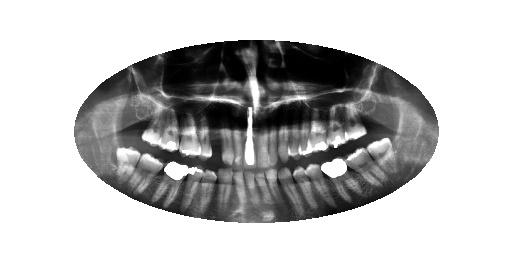i10healthy: (232, 167, 247, 222)
i11healthy: (214, 164, 234, 220)
i12healthy: (198, 165, 219, 218)
i13healthy: (180, 163, 205, 216)
i14healthy: (148, 151, 191, 212)
i15healthy: (124, 142, 165, 203)
i16healthy: (113, 141, 143, 191)
i1healthy: (364, 130, 399, 178)
i2healthy: (342, 140, 390, 188)
i3healthy: (318, 156, 366, 203)
i4healthy: (306, 161, 337, 211)
i5healthy: (291, 165, 319, 214)
i6healthy: (275, 163, 309, 219)
i7healthy: (264, 165, 287, 221)
i8healthy: (253, 167, 276, 221)
i9healthy: (243, 167, 260, 222)
u10healthy: (230, 122, 246, 171)
u11healthy: (218, 118, 238, 168)
u12loss: (204, 120, 227, 163)
u13healthy: (193, 115, 213, 162)
u14: (176, 109, 205, 161)
u15healthy: (158, 101, 182, 154)
u16healthy: (140, 97, 170, 150)
u1healthy: (340, 98, 368, 143)
u2healthy: (323, 105, 349, 150)
u3healthy: (305, 104, 331, 157)
u4healthy: (296, 115, 316, 160)
u5healthy: (285, 120, 303, 161)
u6healthy: (275, 120, 292, 166)
u7healthy: (264, 121, 280, 167)
u8healthy: (254, 122, 271, 170)
u9healthy: (241, 105, 259, 171)
